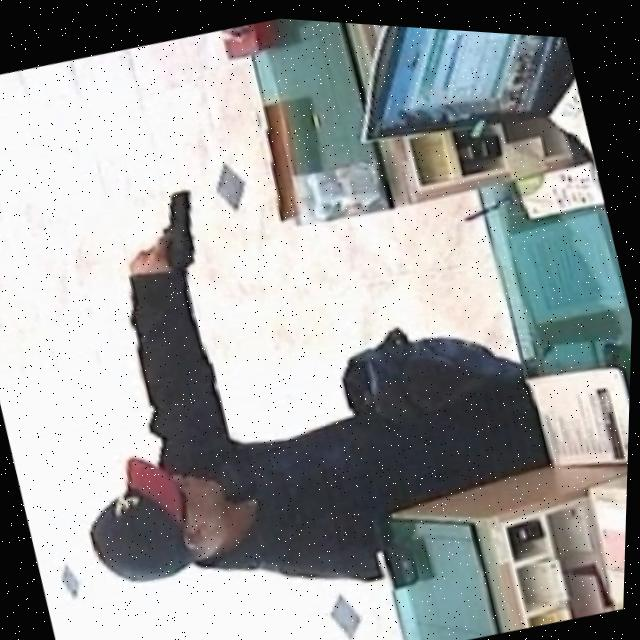pistol: (147, 184, 209, 271)
